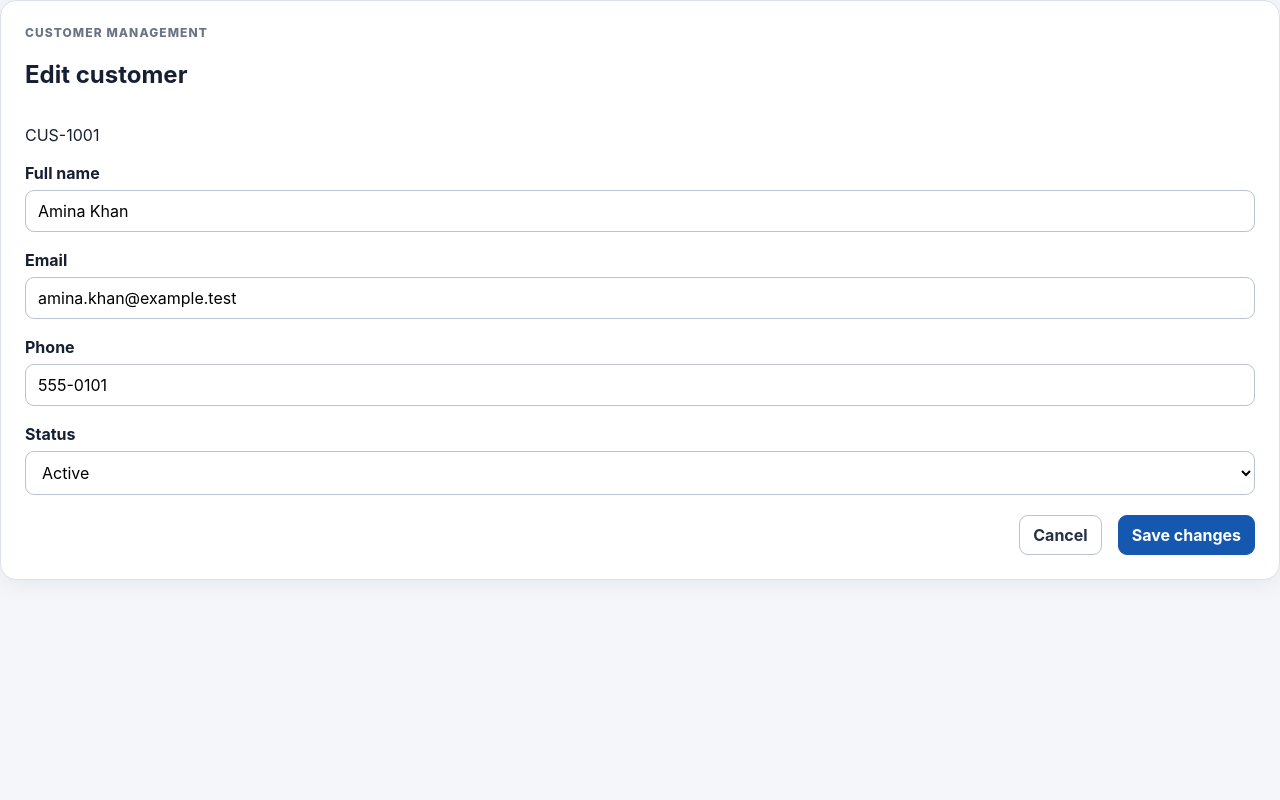
Test case: CustomerEditForm › requires a full name
Clear the field labelled "Full name" at (640, 211), box [25,190,1255,232]
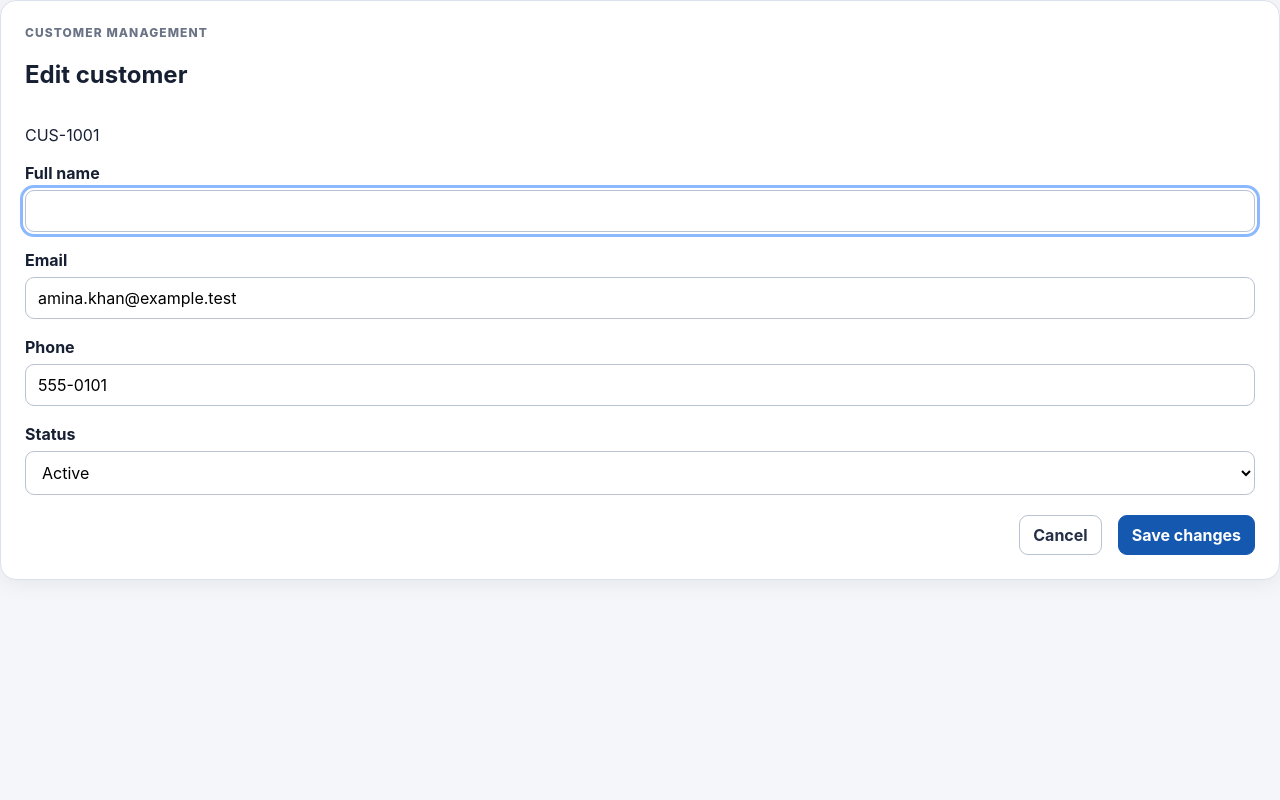
Click the button "Save changes" at (1186, 535), box [1118,515,1255,555]
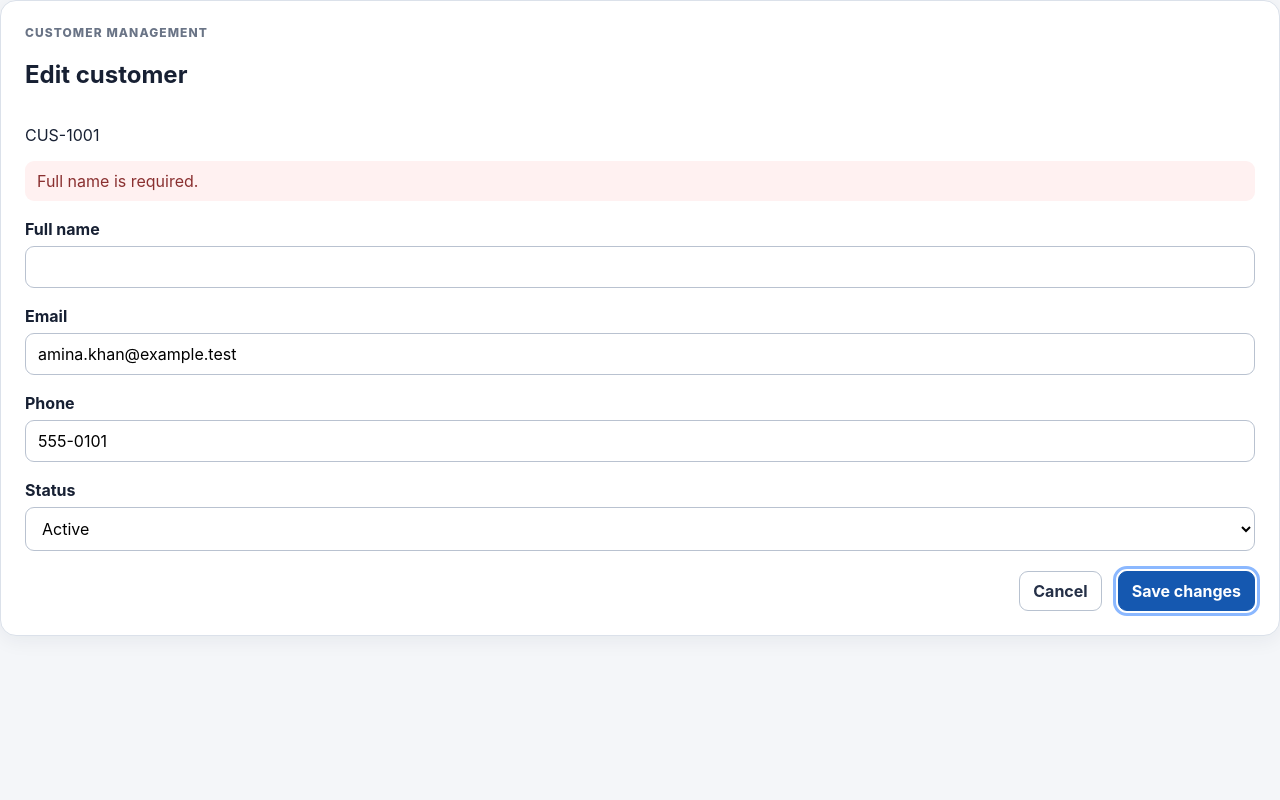
expect the message reads "Full name is required.": met, box [37,171,198,191]
